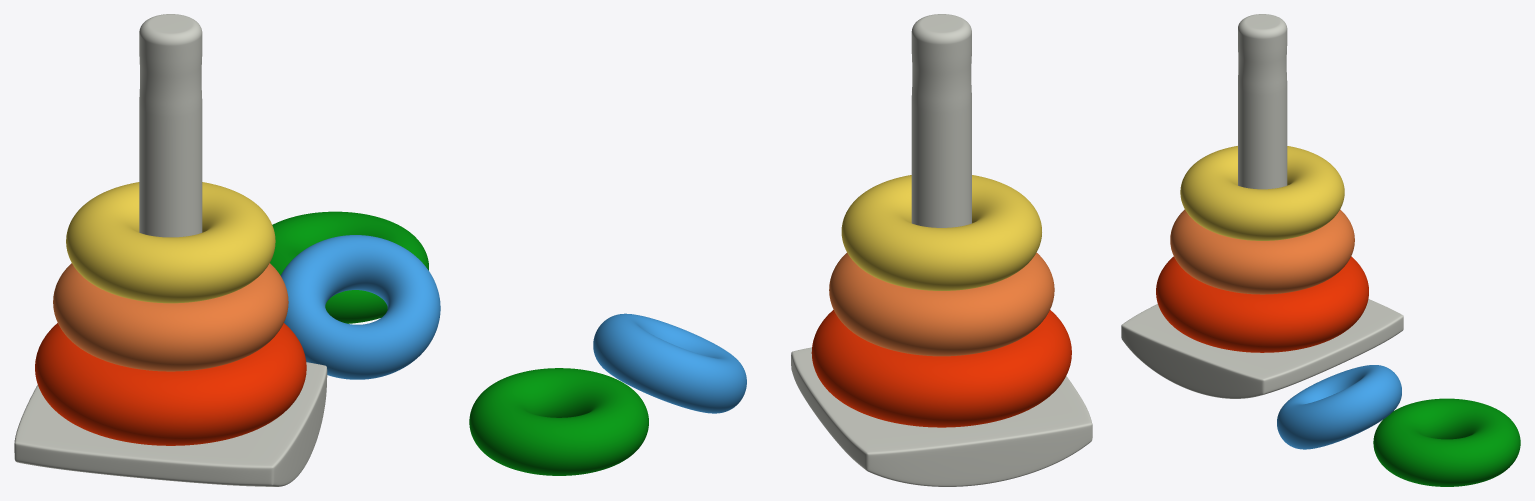
File: anelli.fbx
3 views of the same model, side by side, from view 1: azimuth 30°, elevation 25°; view 2: azimuth 150°, elevation 25°; view 3: azimuth 270°, elevation 25° (orthographic). The views are drawn at different scales.
Visible parts, largest first — view 1: anelli; view 2: anelli; view 3: anelli.
Boxes of the visible parts, bbox=[...] form: anelli: bbox=[14, 14, 440, 486]; anelli: bbox=[469, 14, 1092, 486]; anelli: bbox=[1121, 14, 1520, 486].
Size of the model in its own units: 45.1 by 35.32 by 38.25.
